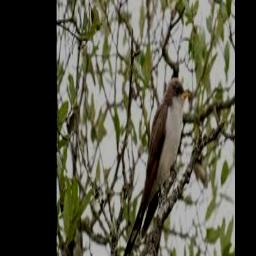Cuckoo: (115, 77, 189, 256)
